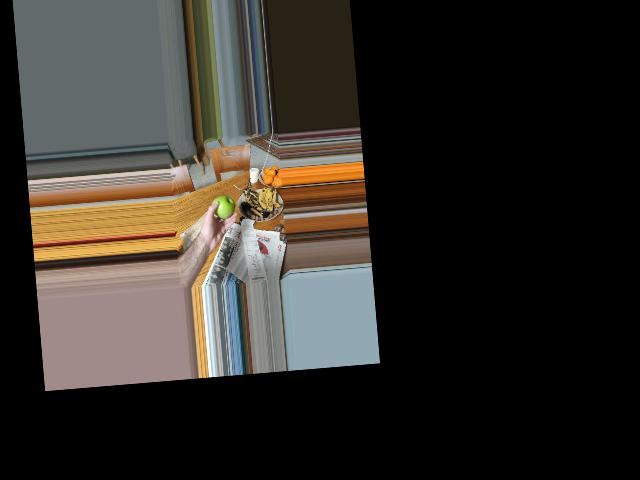apple: (210, 194, 235, 221)
